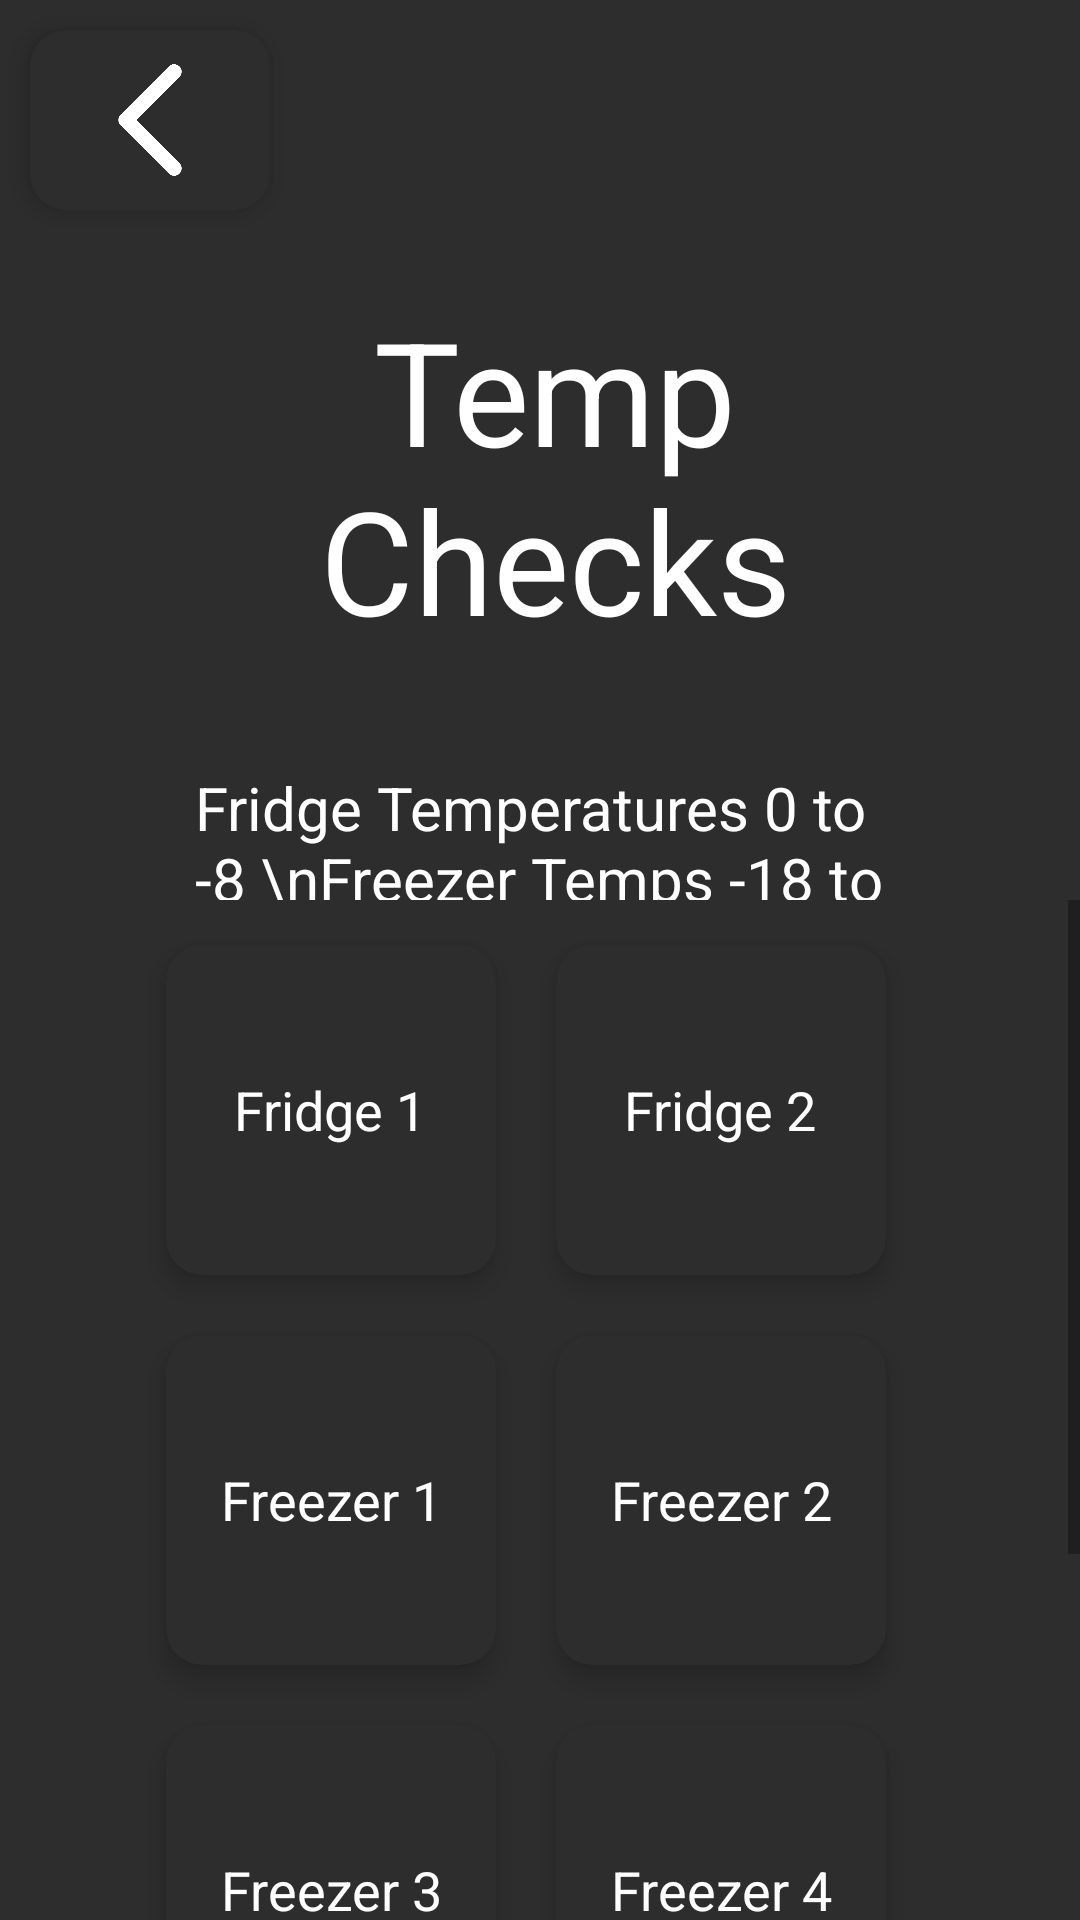

Icon bounding boxes for this 1080*1920 phone screenshot, format rect(x1, y1, x2, y2):
backarrow: rect(118, 64, 182, 176)
